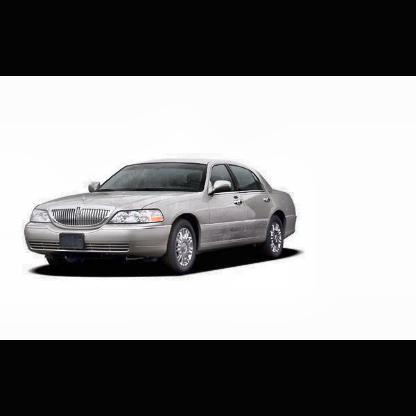Lincoln Town Car Sedan 2011: (23, 155, 301, 279)
